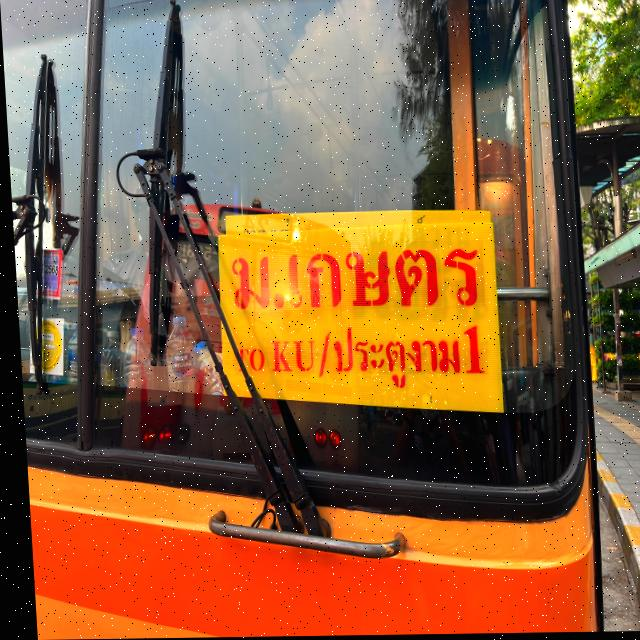BMTA-bus: (0, 0, 603, 640)
Destination-Sign-Extra-Bus-Expressway: (212, 227, 502, 419)
